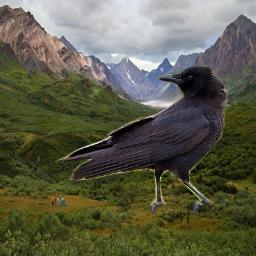Crow: (55, 65, 230, 215)
